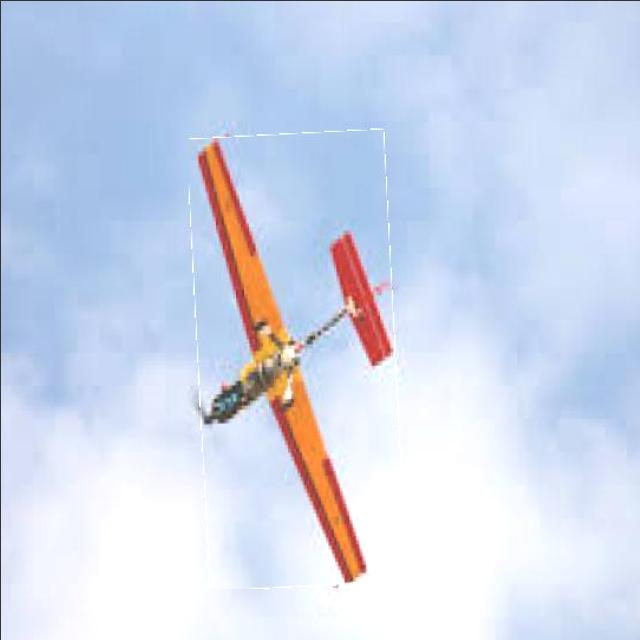plane: (190, 137, 395, 588)
